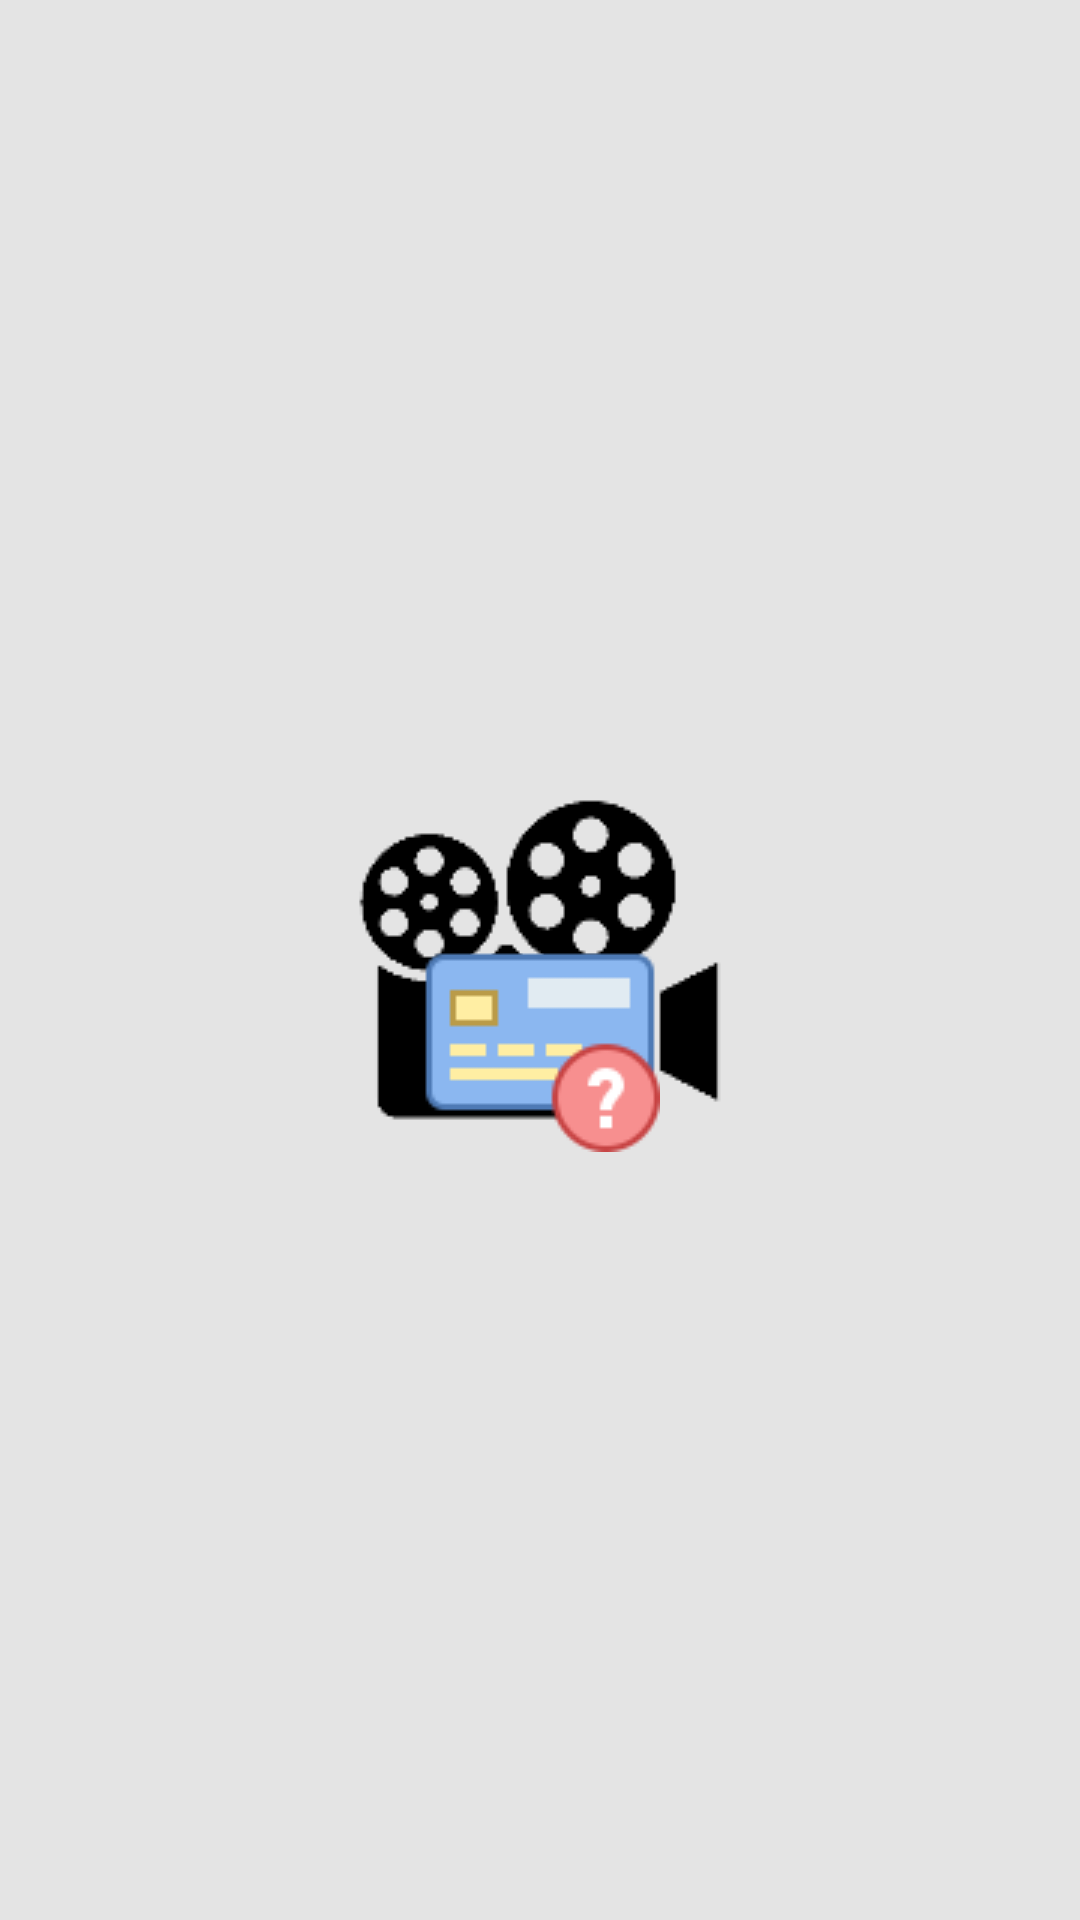

Icons on this 1080w x 1920h Android screen, each with the point to tap as (x=x, y=y):
missing: (x=540, y=1032)
